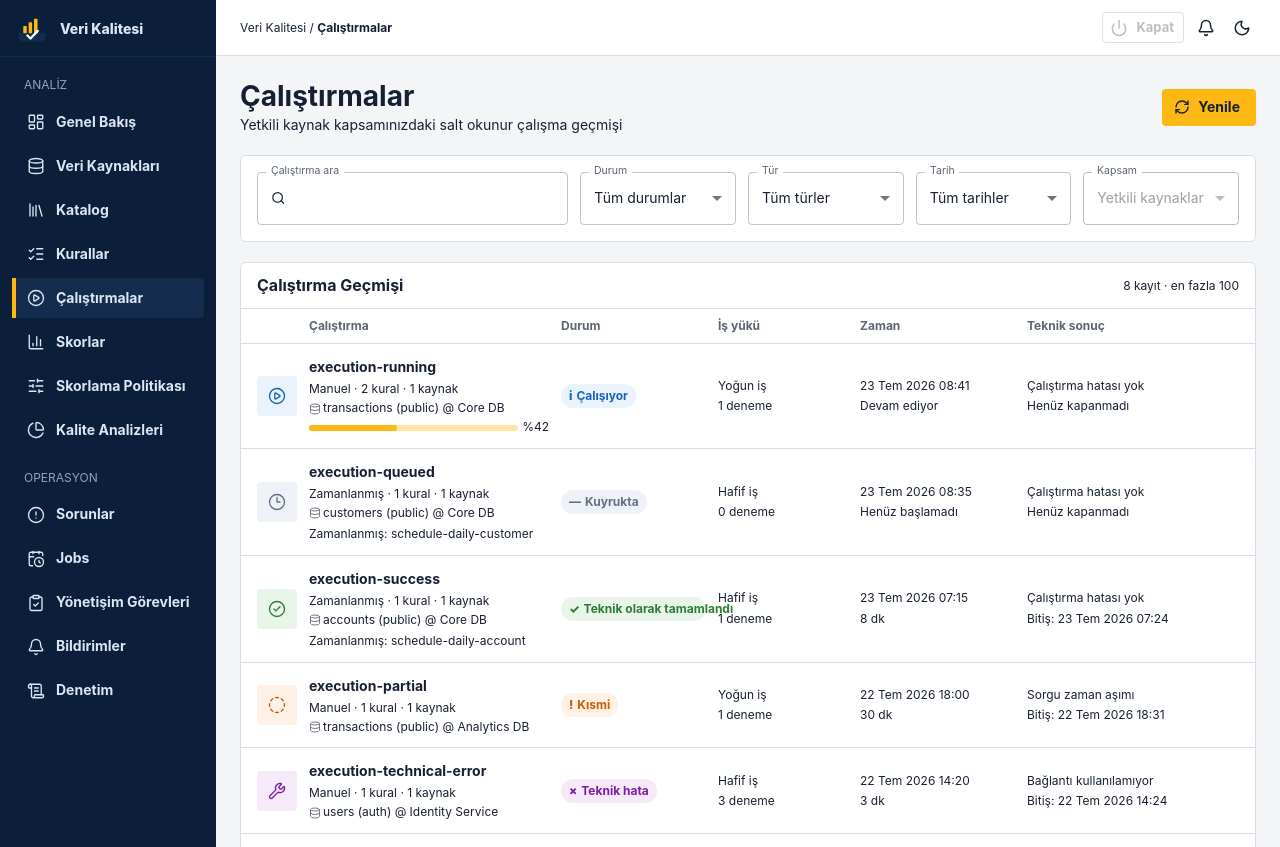
Çalıştırmalar ekranı › metin ve durum filtrelerini uygular
Type "timeout" into the field labelled "Çalıştırma ara".
click(427, 198); type("timeout")  # box [286, 172, 568, 225]
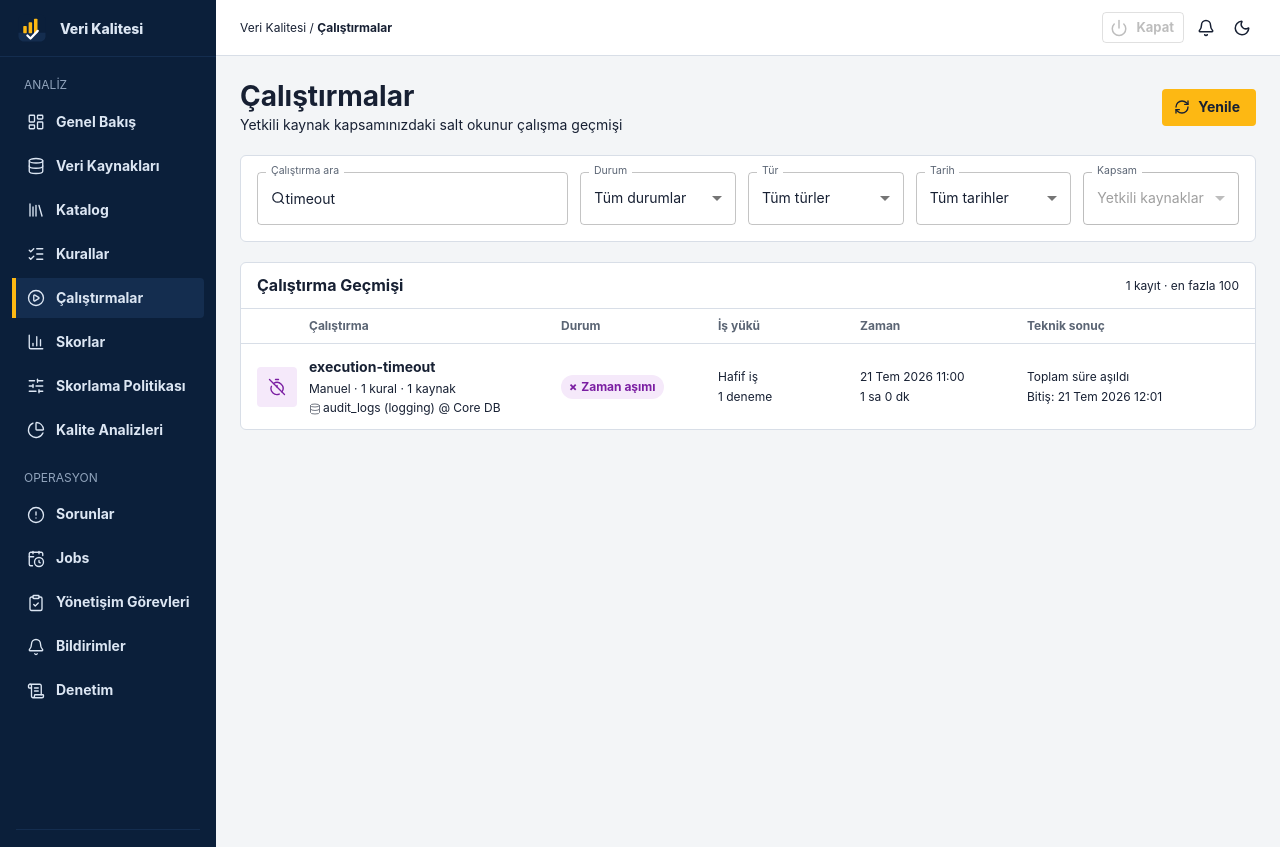
Check: the text "execution-timeout" is shown, box [309, 358, 435, 375]
Check: the text "execution-running" is gone
Clear the field labelled "Çalıştırma ara" at (427, 198), box [286, 172, 568, 225]
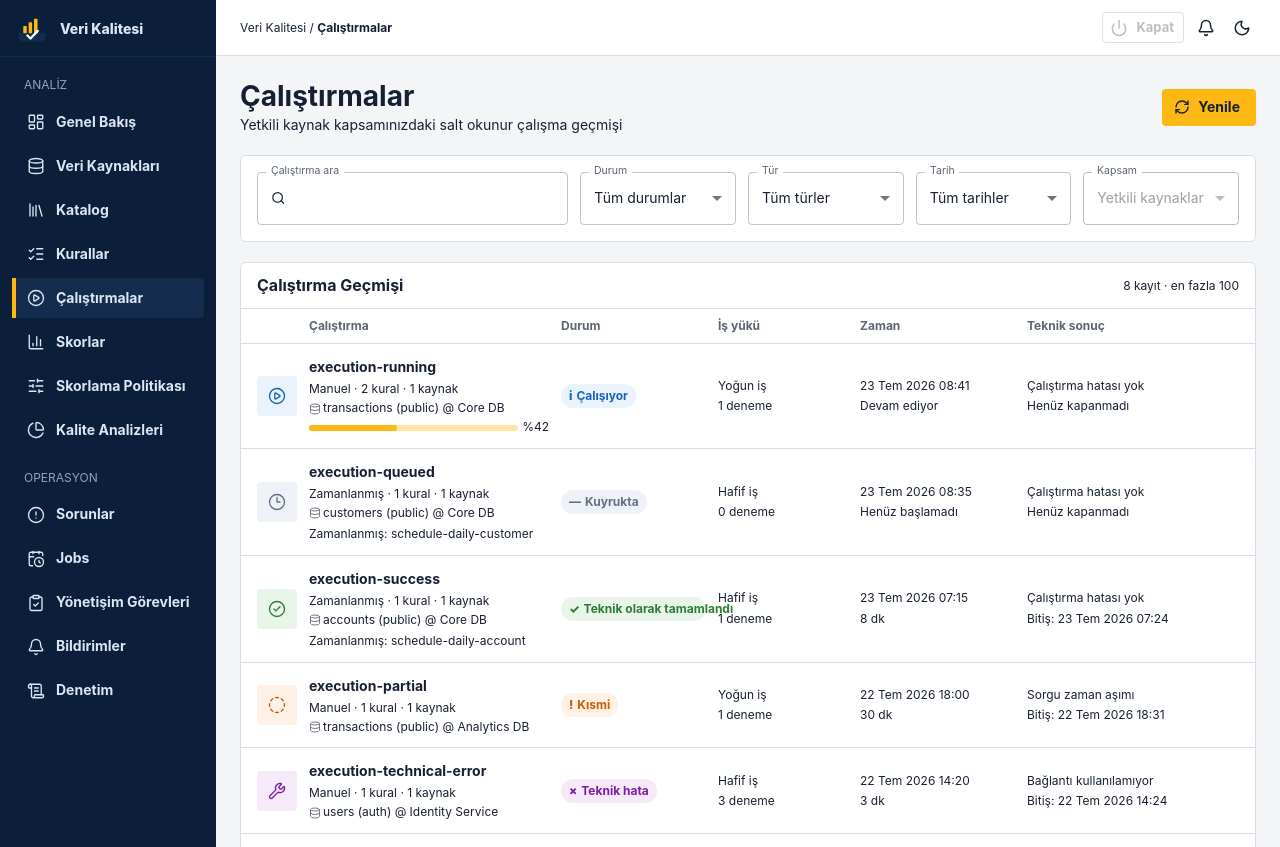
Press the mouse on the dropdown labelled "durum" at (640, 198), box [594, 189, 686, 206]
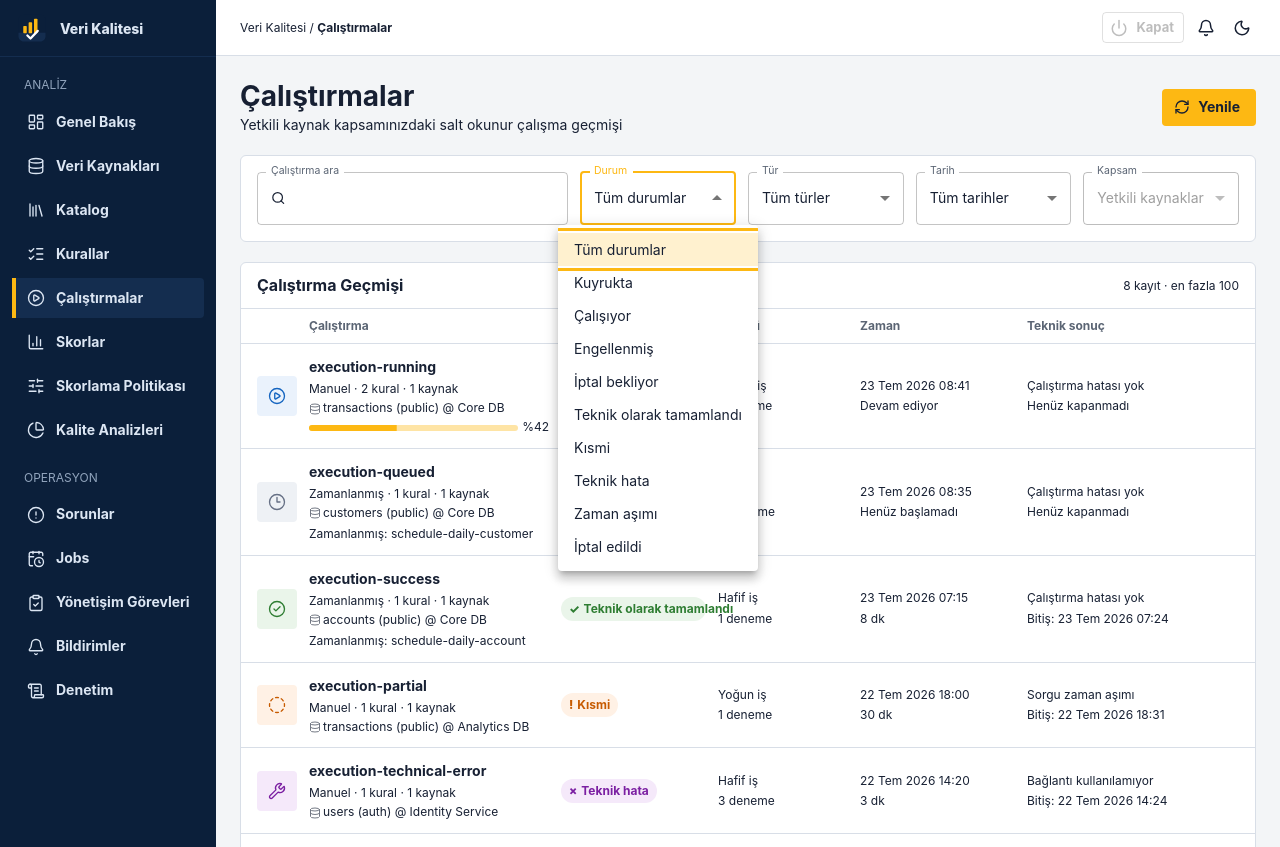
Click the option "Kısmi".
click(592, 448)  # box [574, 439, 610, 456]
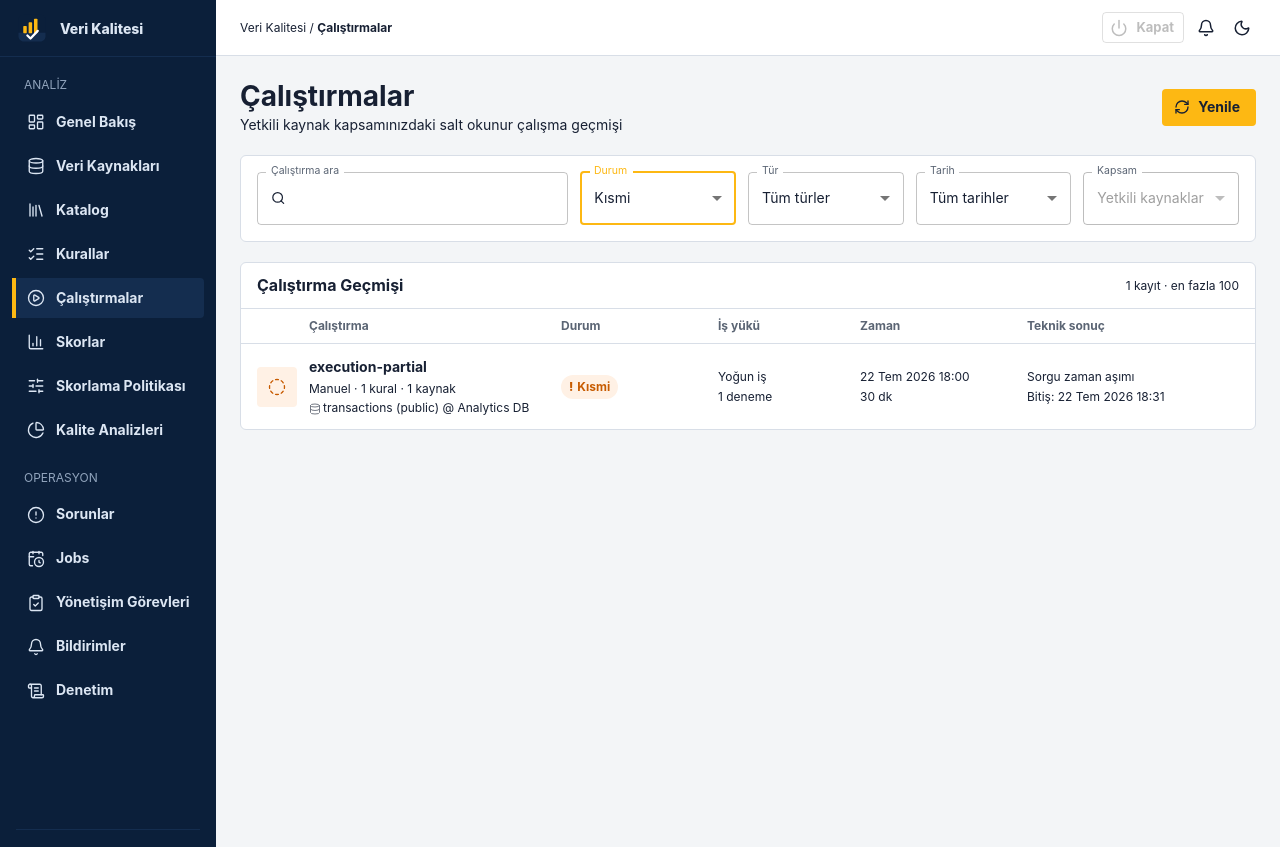
Check: the text "execution-partial" is shown, box [309, 358, 427, 375]
Check: the text "execution-success" is gone
